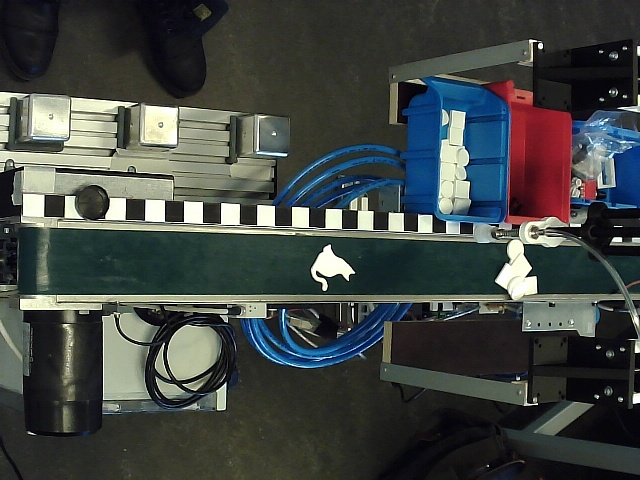cat: (310, 244, 357, 292)
